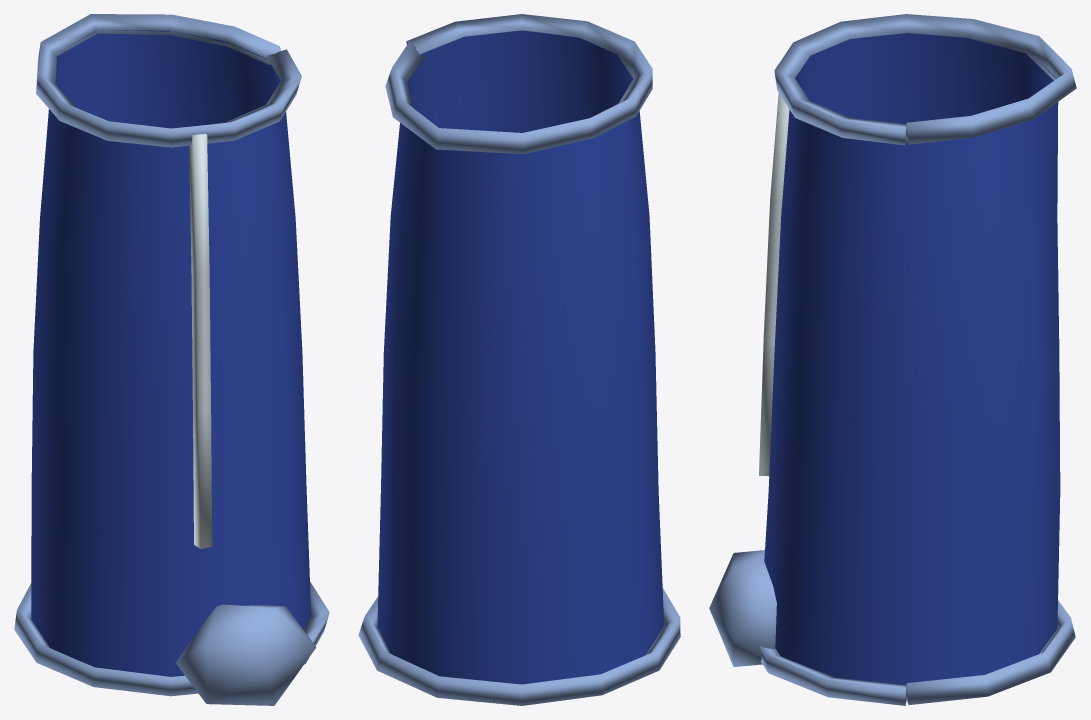
The model's file is stardust_armor_greave.R.glb.
3 renders of one model, left to right at view 1: azimuth 30°, elevation 25°; view 2: azimuth 150°, elevation 25°; view 3: azimuth 270°, elevation 25°, orthographic. The views are drawn at different scales.
Visible parts, largest first — view 1: stardust_armor_greave.R; view 2: stardust_armor_greave.R; view 3: stardust_armor_greave.R.
Boxes of the visible parts, x1,y1,x2,y2 form: stardust_armor_greave.R: [14, 14, 329, 705]; stardust_armor_greave.R: [358, 14, 680, 705]; stardust_armor_greave.R: [709, 14, 1076, 705].
Bounding box in the file's own units: 0.1998 × 0.4044 × 0.2286.
